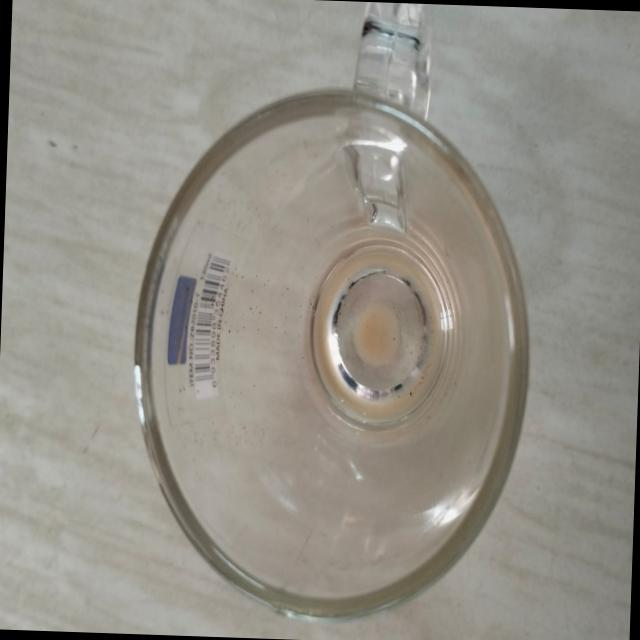glass-VX4N: (123, 0, 544, 630)
